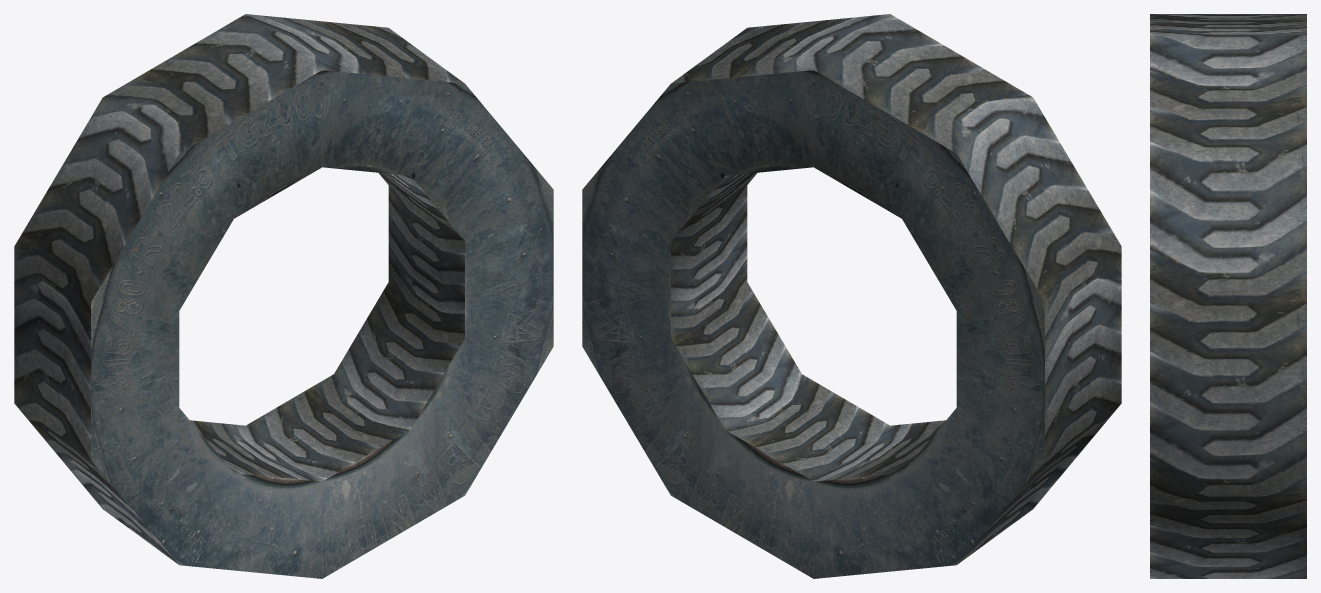
The model's file is tyre2_LOD1.fbx.
3 views of the same model, side by side, from view 1: azimuth 30°, elevation 25°; view 2: azimuth 150°, elevation 25°; view 3: azimuth 270°, elevation 25° (orthographic). The views are drawn at different scales.
Parts seen in each view (by area): view 1: Mesh Object; view 2: Mesh Object; view 3: Mesh Object.
Part boxes in pixels (bbox=[...]): Mesh Object: bbox=[14, 14, 553, 578]; Mesh Object: bbox=[582, 14, 1121, 578]; Mesh Object: bbox=[1150, 14, 1306, 578].
Bounding box in the file's own units: 0.8369 × 0.88 × 0.24.
